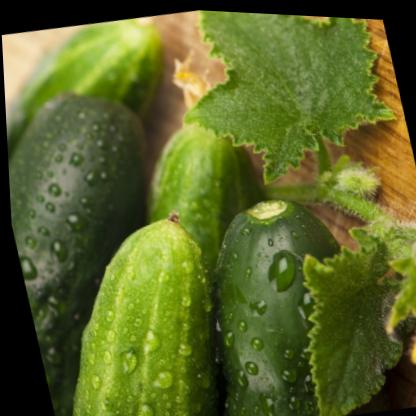--: (29, 187, 248, 416), (195, 168, 395, 416)
